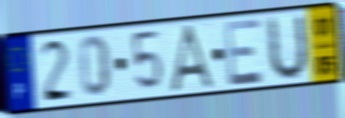0: (77, 33, 113, 101)
2: (36, 38, 73, 105)
5: (128, 28, 165, 94)
A: (167, 22, 219, 93)
E: (222, 16, 266, 89)
U: (267, 12, 310, 84)
